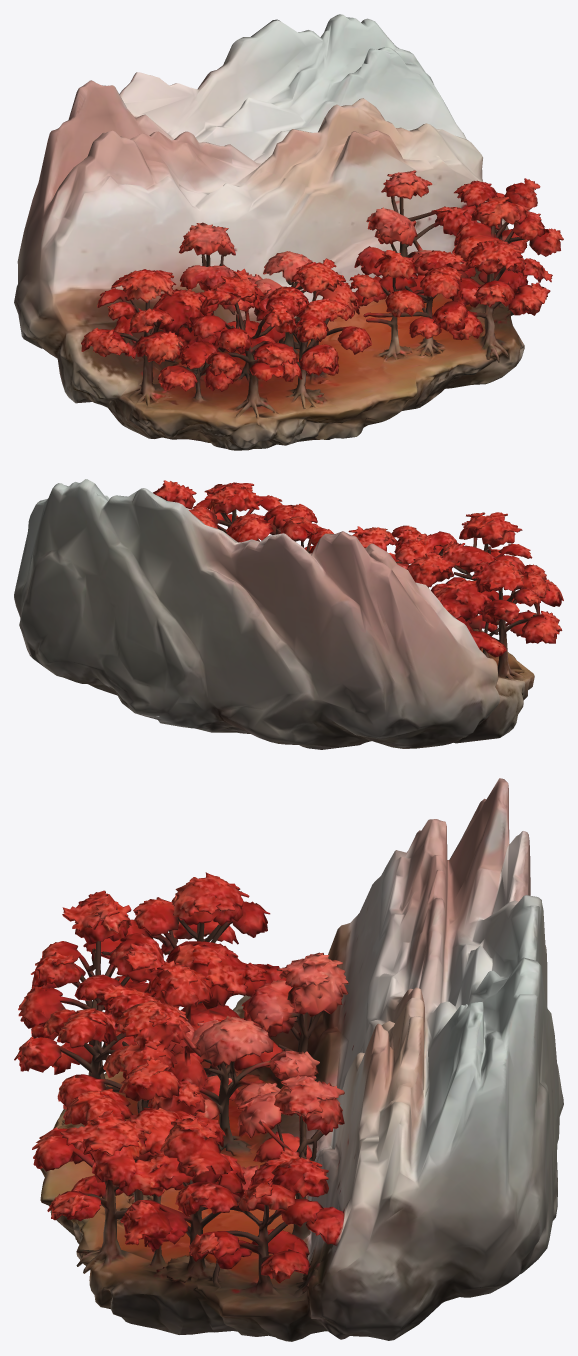
File: autumn_far.glb
3 renders of one model, top to bottom at view 1: azimuth 30°, elevation 25°; view 2: azimuth 150°, elevation 25°; view 3: azimuth 270°, elevation 25°, orthographic. The views are drawn at different scales.
Parts seen in each view (by area): view 1: tripo_node_1b597a65-d07f-4b57-bc81-64d5ab0aa8c5; view 2: tripo_node_1b597a65-d07f-4b57-bc81-64d5ab0aa8c5; view 3: tripo_node_1b597a65-d07f-4b57-bc81-64d5ab0aa8c5.
Boxes of the visible parts, x1,y1,x2,y2 form: tripo_node_1b597a65-d07f-4b57-bc81-64d5ab0aa8c5: (14,14,563,450); tripo_node_1b597a65-d07f-4b57-bc81-64d5ab0aa8c5: (14,479,563,749); tripo_node_1b597a65-d07f-4b57-bc81-64d5ab0aa8c5: (14,778,563,1341).
Bounding box in the file's own units: 0.9788 × 0.538 × 0.7068.
1 material, 1 textured.
